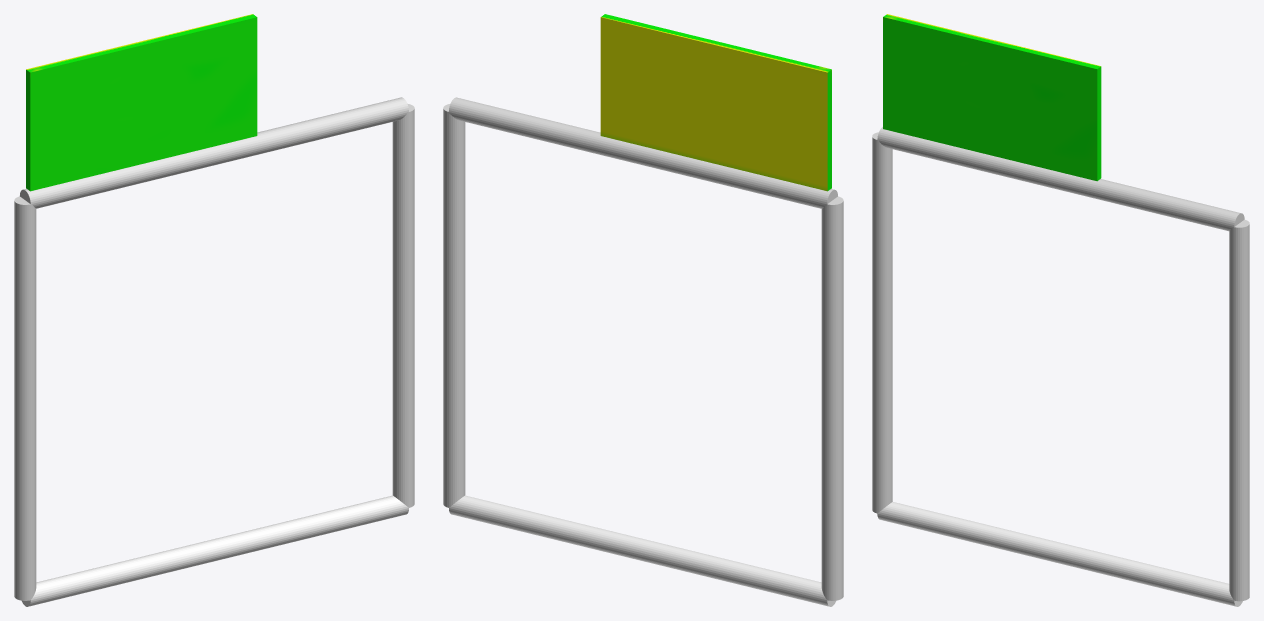
Rendered from frame2.gltf.
The picture shows the model from 3 angles, left to right: view 1: azimuth 30°, elevation 25°; view 2: azimuth 150°, elevation 25°; view 3: azimuth 330°, elevation 25°; orthographic projection. The views are drawn at different scales.
Parts seen in each view (by area): view 1: Cube, Cylinder.001, Cylinder.002, Cylinder.003, Cylinder; view 2: Cube, Cylinder.001, Cylinder.002, Cylinder.003, Cylinder; view 3: Cube, Cylinder.002, Cylinder.001, Cylinder.003, Cylinder.
Boxes of the visible parts, box(x1,y1,x2,y2) form: Cube: box(26, 14, 257, 191); Cylinder.001: box(14, 196, 36, 600); Cylinder.002: box(392, 103, 414, 507); Cylinder.003: box(22, 495, 408, 606); Cylinder: box(20, 97, 408, 208); Cube: box(600, 14, 831, 191); Cylinder.001: box(821, 196, 843, 600); Cylinder.002: box(443, 104, 465, 507); Cylinder.003: box(449, 495, 835, 606); Cylinder: box(448, 97, 837, 208); Cube: box(883, 14, 1101, 181); Cylinder.002: box(1229, 219, 1249, 601); Cylinder.001: box(872, 132, 892, 513); Cylinder.003: box(877, 502, 1242, 606); Cylinder: box(877, 127, 1244, 231).
Size of the model in its own units: 10.5 by 13.5 by 0.5027.
2 materials, 1 textured.
